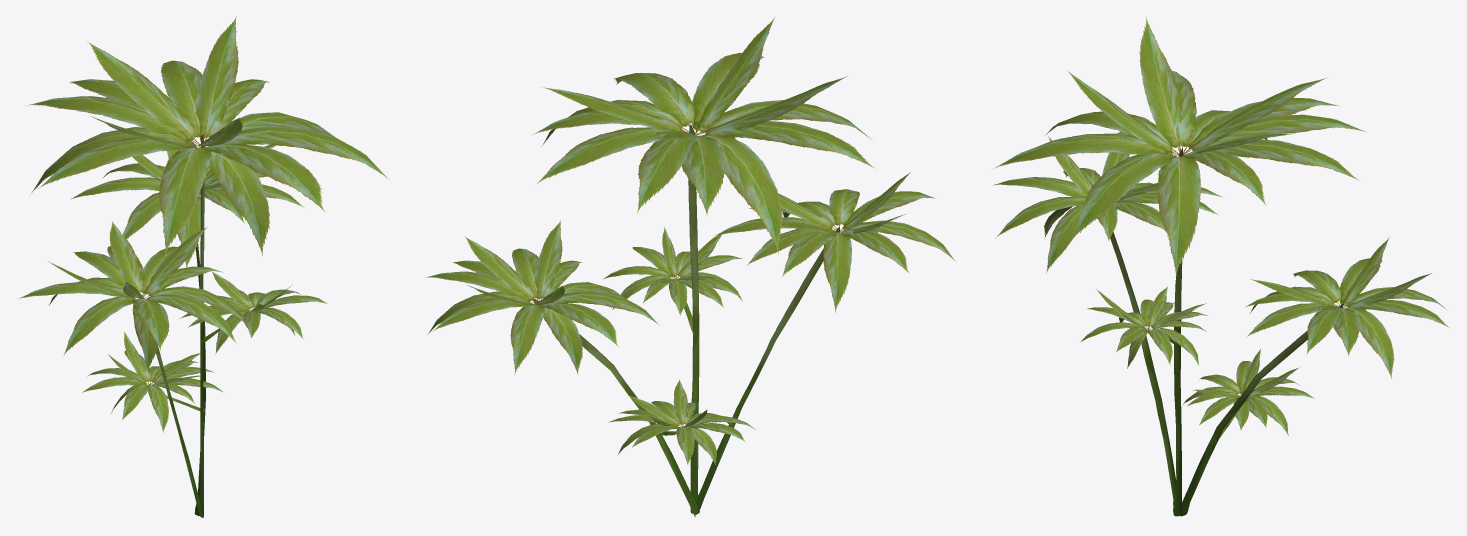
Rendered from tree2.fbx.
3 views of the same model, side by side, from view 1: azimuth 30°, elevation 25°; view 2: azimuth 150°, elevation 25°; view 3: azimuth 270°, elevation 25° (orthographic). The views are drawn at different scales.
Parts seen in each view (by area): view 1: Plane128; view 2: Plane128; view 3: Plane128.
Part boxes in pixels (box(x1,y1,x2,y2)): Plane128: box(17, 16, 389, 517); Plane128: box(426, 16, 955, 516); Plane128: box(992, 16, 1450, 516).
Size of the model in its own units: 39.98 by 45.42 by 43.43.
